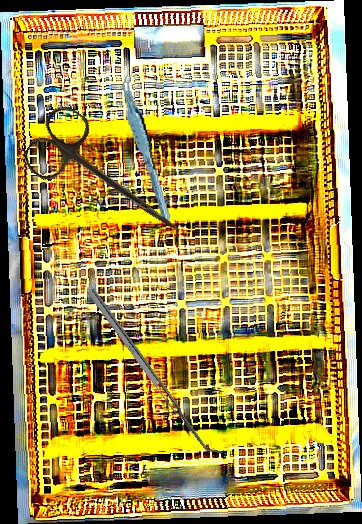Iris Scissors: (17, 100, 203, 259)
Spatula Surgical: (87, 283, 223, 462)
Tissue Forceps: (119, 69, 172, 225)
